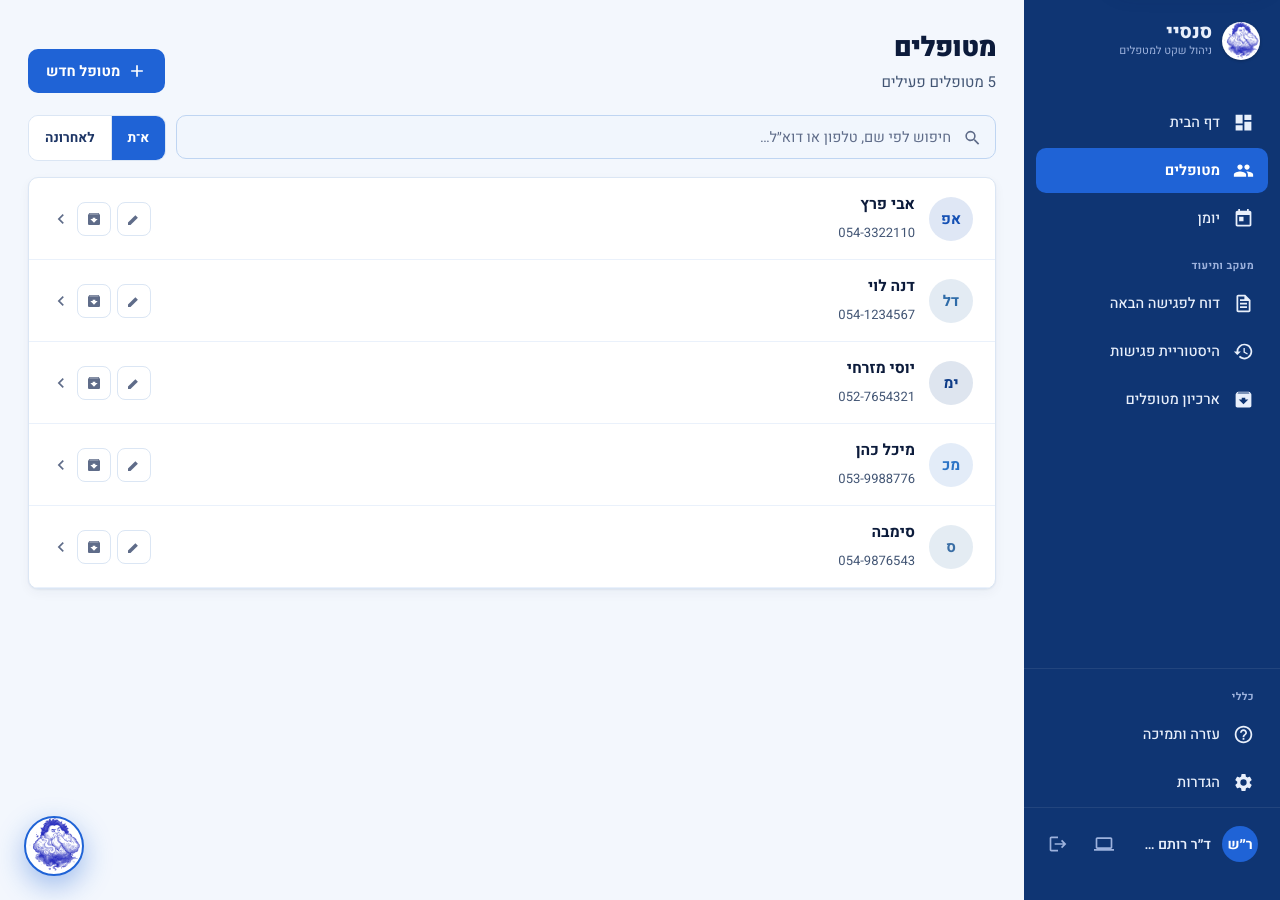
Scenario: delete patient — confirmation, removal, and undo › requires confirmation and then removes the patient from the active list
What coordinates should you click on to do the following:
click the 1st button named "העברה לארכיון"
I would click on:
 (94, 218)
Its box is [77, 202, 111, 236].
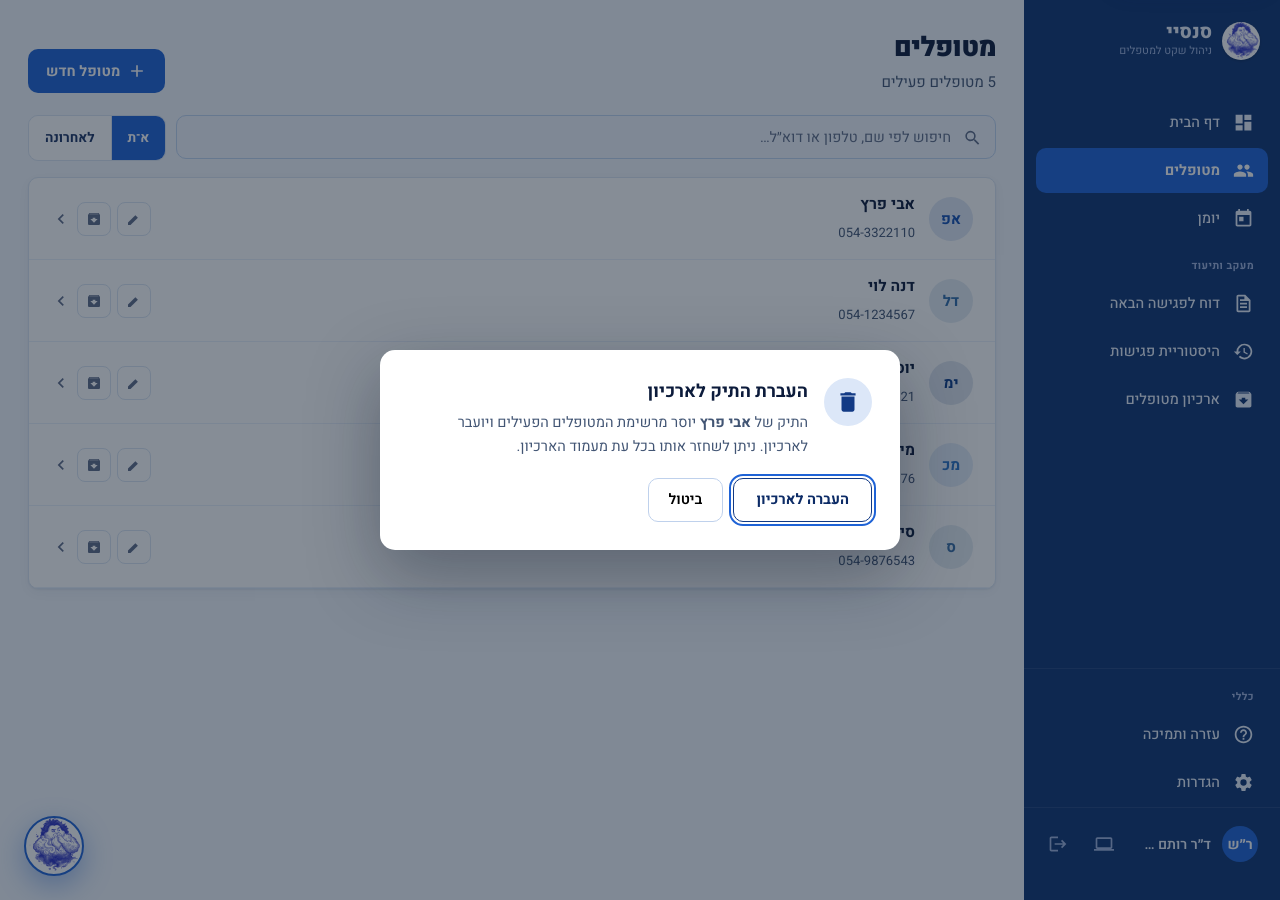
Expected: the element with id "main-content" shows "אבי פרץ", [165, 193, 973, 244]
Expected: the dialog is shown, [380, 350, 900, 550]
What coordinates should you click on to do the following:
click the button "העברה לארכיון"
I would click on:
 (803, 500)
Its box is [733, 478, 872, 522].
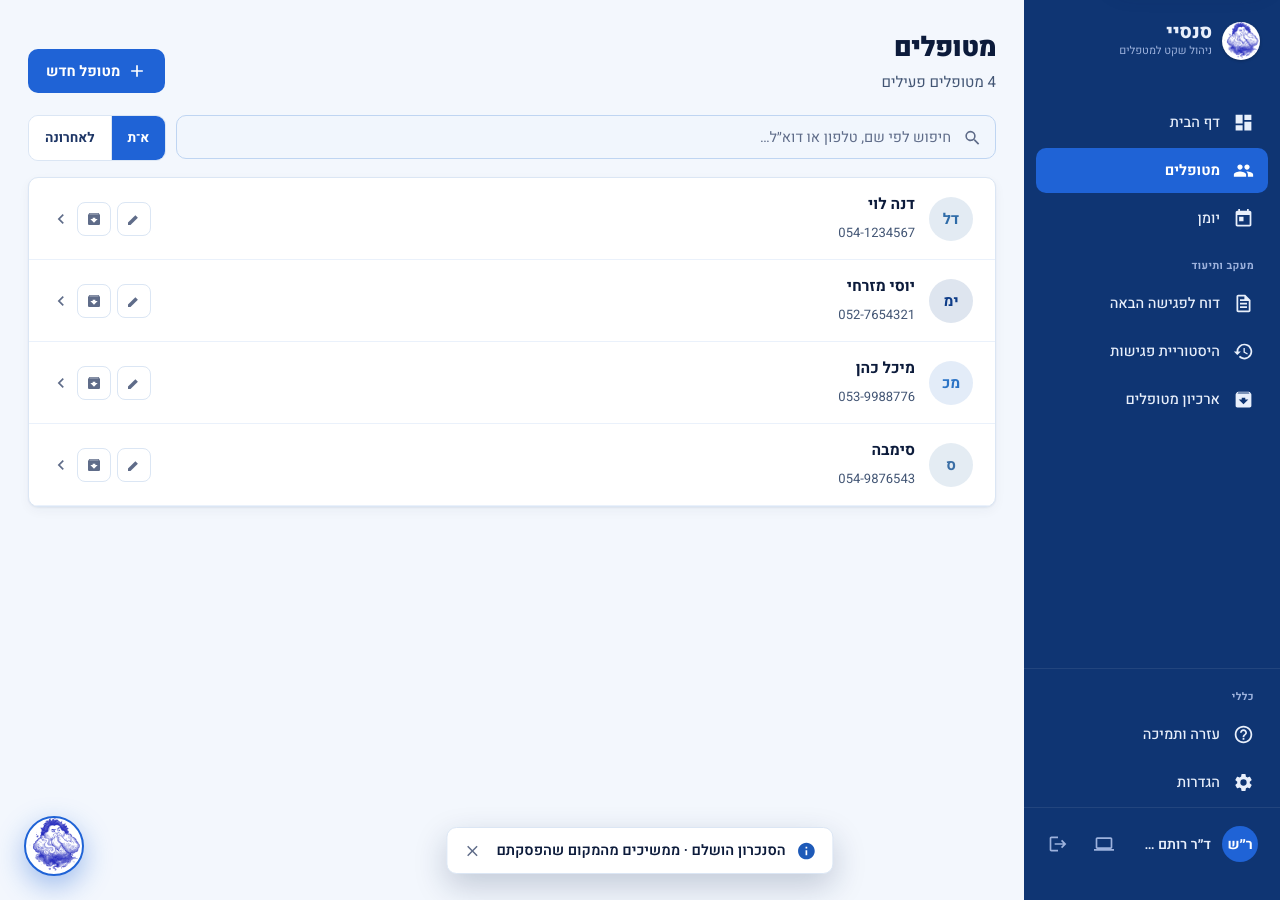
Expected: the button with id "main-content" no longer shows "אבי פרץ"
